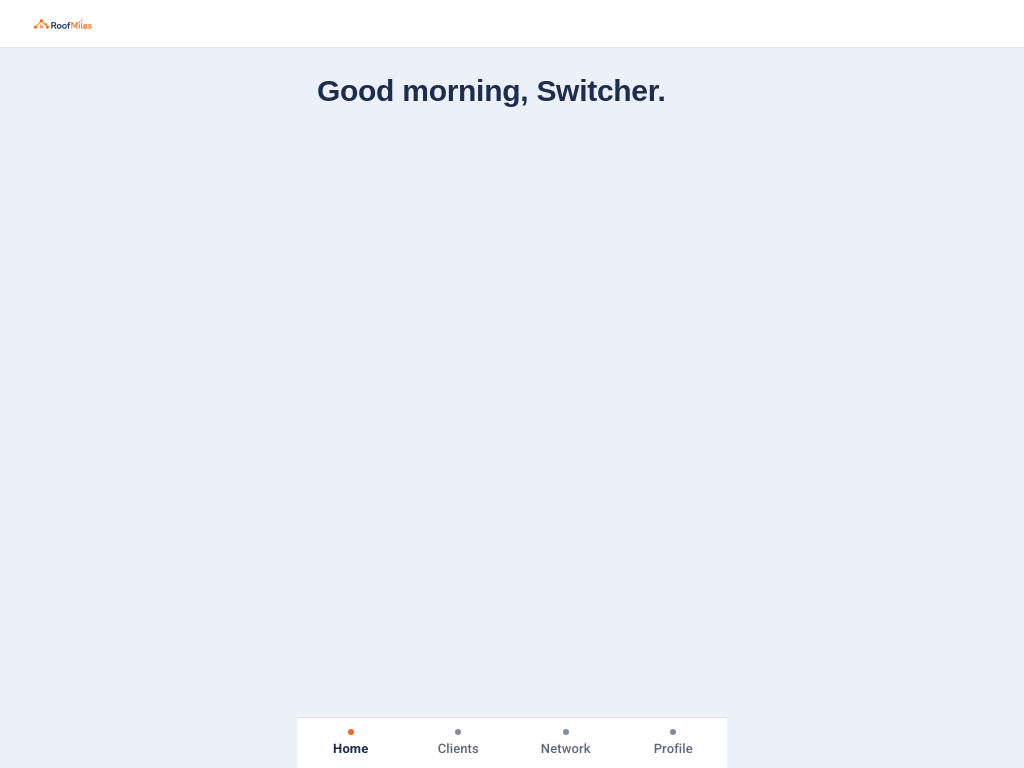
Scenario: C/DL-3c Phase 2b — who is offered a switcher › [RED] a GENERAL-tier rep is offered one on the rep surface (on Profile)
The width and height of the screenshot is (1024, 768).
Click the button "Profile" at coordinates (673, 742), box [620,729,727,756]
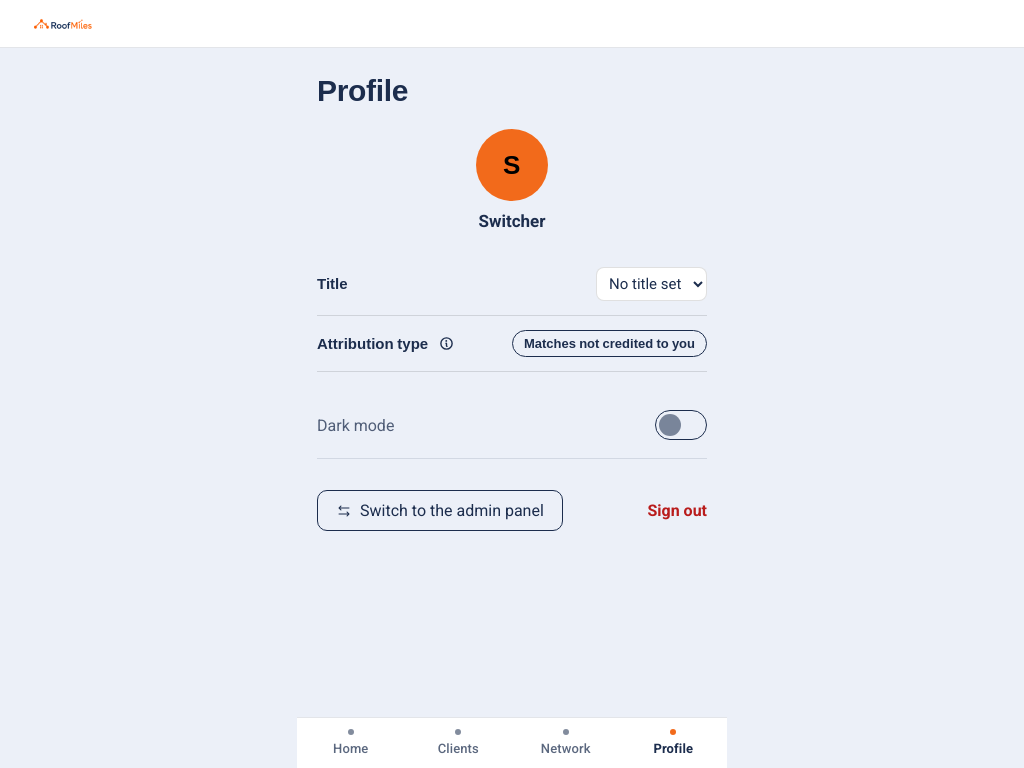
Now the button "Sign out" is shown, box [647,487,707,534]
Now the button "Switch to the admin panel" is shown, box [317,490,563,531]
